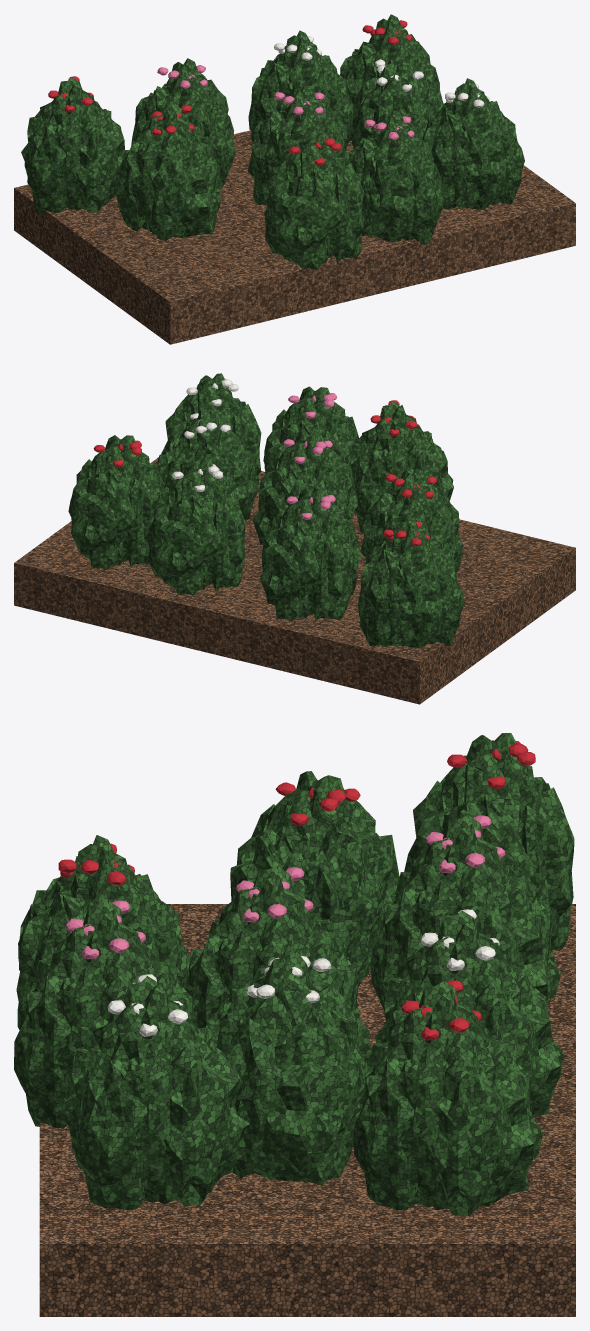
The picture shows the model from 3 angles, top to bottom: view 1: azimuth 30°, elevation 25°; view 2: azimuth 150°, elevation 25°; view 3: azimuth 270°, elevation 25°; orthographic projection. The views are drawn at different scales.
Visible parts, largest first — view 1: landscape.rose_garden, biljka-0-0.8- (×4), biljka-1-0.8- (×3), biljka-2-0.8- (×3); view 2: landscape.rose_garden, biljka-0-0.8- (×4), biljka-1-0.8- (×3), biljka-2-0.8- (×3); view 3: landscape.rose_garden, biljka-0-0.8- (×8), biljka-2-0.8- (×6), biljka-1-0.8- (×6).
Boxes of the visible parts, x1,y1,x2,y2 form: landscape.rose_garden: (14,130,575,344); biljka-0-0.8- (×4): (21,14,443,270); biljka-1-0.8- (×3): (131,58,443,244); biljka-2-0.8- (×3): (248,30,524,209); landscape.rose_garden: (14,457,575,704); biljka-0-0.8- (×4): (68,401,464,648); biljka-1-0.8- (×3): (252,386,361,621); biljka-2-0.8- (×3): (146,373,261,595); landscape.rose_garden: (39,904,575,1316); biljka-0-0.8- (×8): (16,733,574,1216); biljka-2-0.8- (×6): (60,909,564,1210); biljka-1-0.8- (×6): (14,815,561,1128).
Bounding box in the file's own units: 3.09 × 2.1 × 1.13.
Materials: 5 (2 with a texture image).
